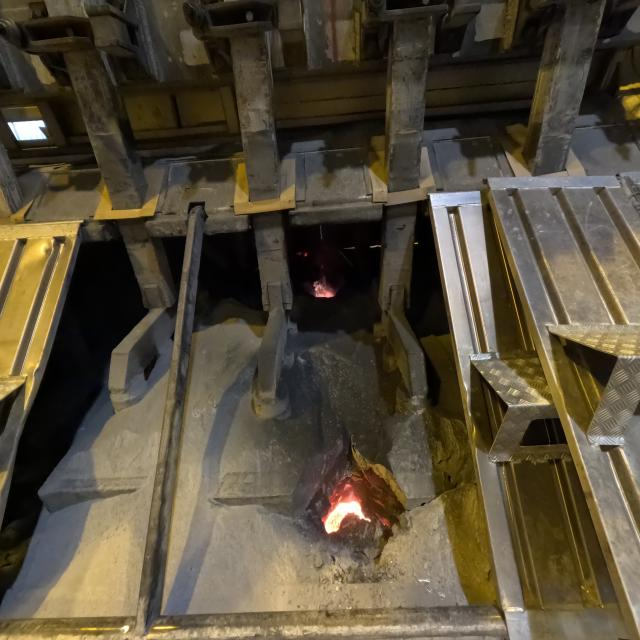Blackspot: (38, 488, 138, 514)
